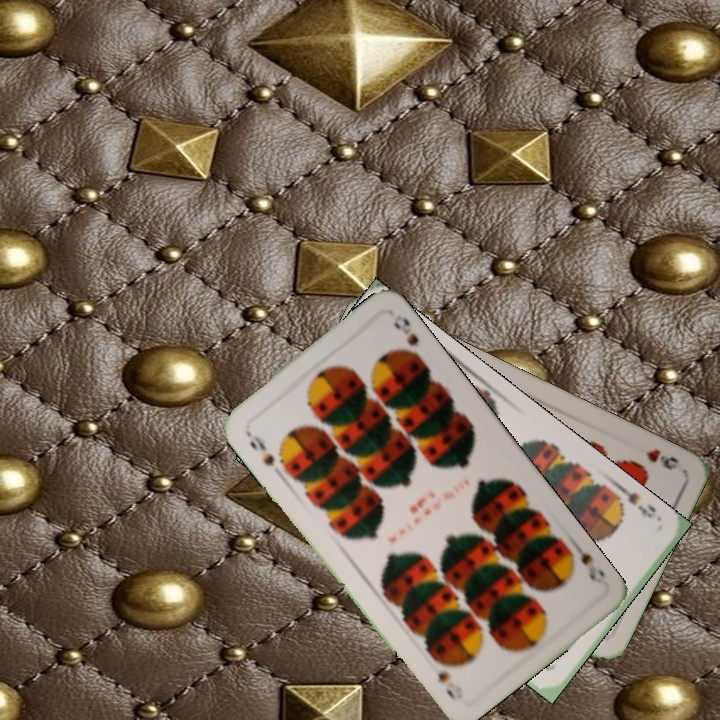H9: (642, 444, 682, 473)
S9: (608, 480, 663, 523), (562, 537, 608, 588), (240, 426, 278, 470)
